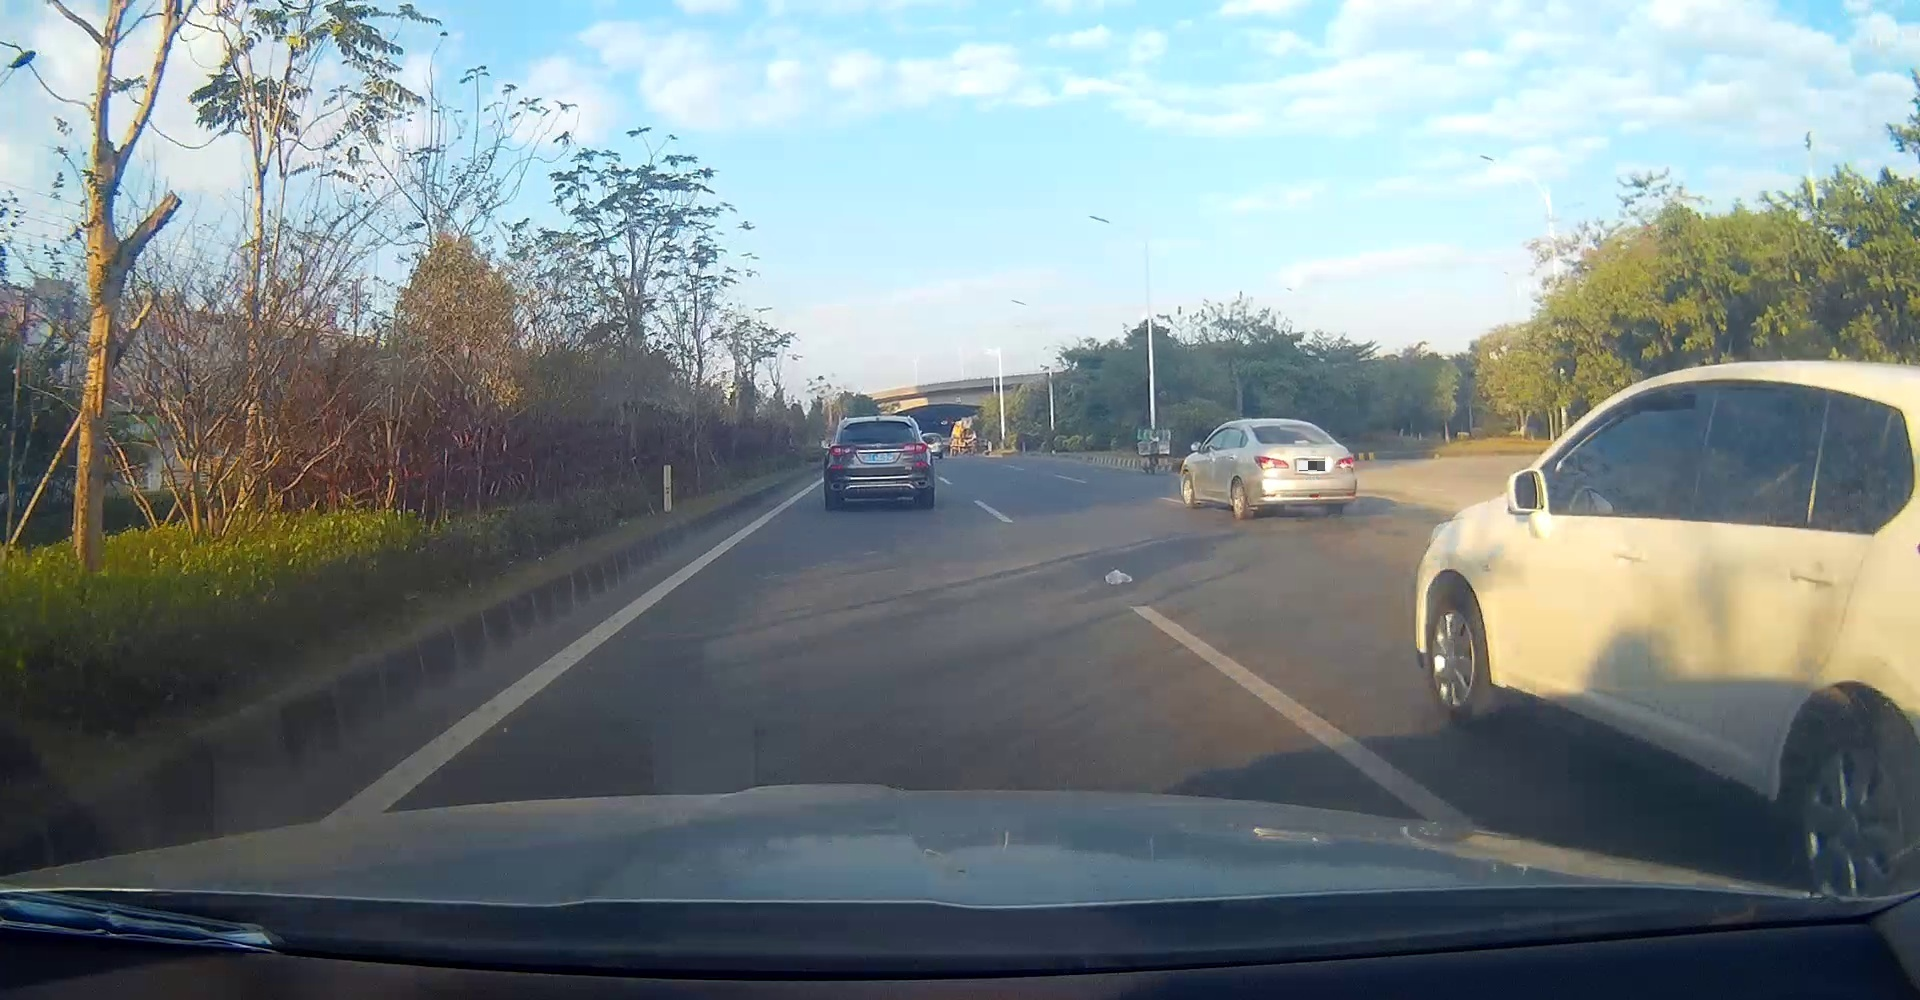L_light: (1253, 456, 1289, 470), (829, 445, 853, 456)
R_light: (903, 442, 927, 453), (1333, 456, 1352, 468)
T_light: (1293, 439, 1310, 445), (871, 418, 885, 424)
day-no: (1247, 418, 1356, 520), (828, 416, 931, 511)
plate_1: (1299, 461, 1324, 471)
